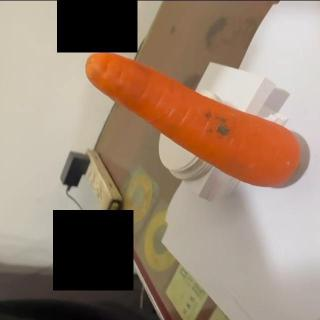carrot: (83, 52, 303, 187)
